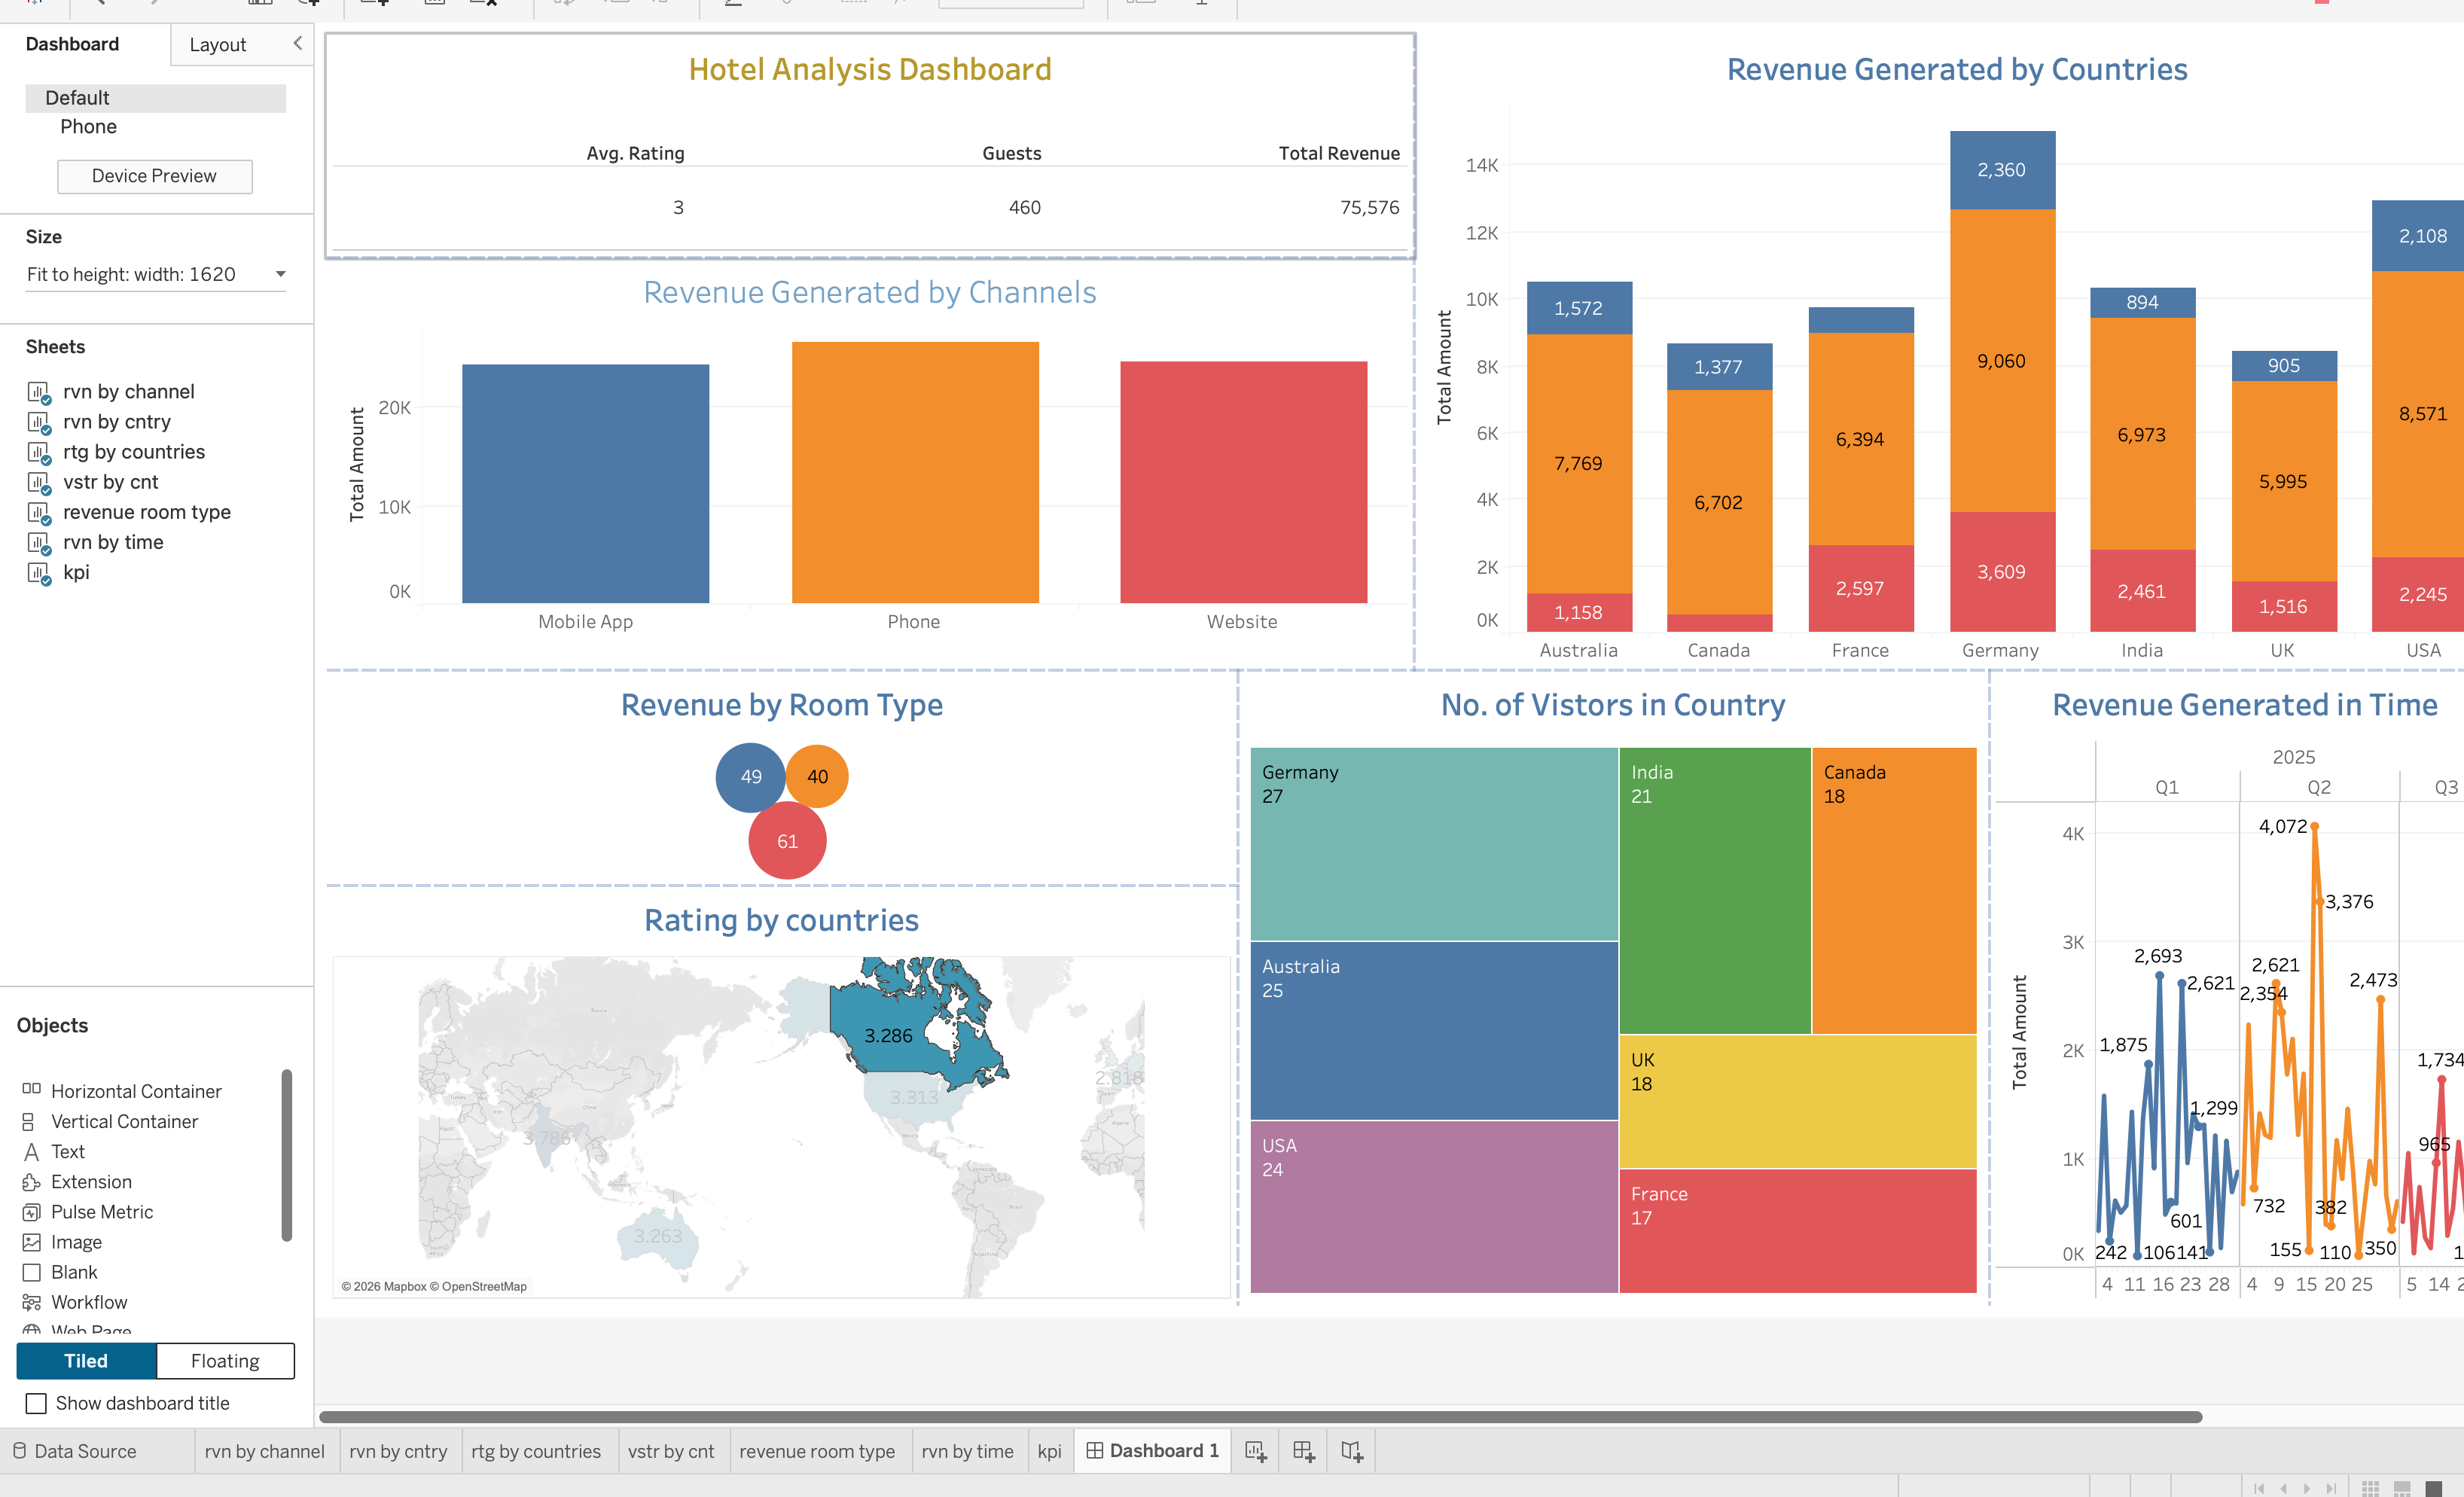

The dashboard page shown, as its layout file describes it:
{"tool":"tableau","page":{"name":"Dashboard 1","canvas":[1000,1000],"units":"permille","ordinal":0},"visuals":[{"type":"worksheet","title":"kpi","mark":"Automatic","box":[4.9,9.3,445.7,172.1]},{"type":"worksheet","title":"rvn by cntry","mark":"Automatic","rows":["TotalAmount"],"cols":["Country"],"box":[450.6,9.3,445.7,490.7]},{"type":"legend","title":"rvn by channel","param":"[federated.10uwmo20w9whh510r90cf0d7i9xo].[none:BookingChannel:nk]","box":[896.3,9.3,98.8,100]},{"type":"legend","title":"rvn by cntry","param":"[federated.10uwmo20w9whh510r90cf0d7i9xo].[none:PaymentStatus:nk]","box":[896.3,109.3,98.8,100]},{"type":"worksheet","title":"rvn by channel","mark":"Automatic","rows":["TotalAmount"],"cols":["BookingChannel"],"box":[4.9,181.4,445.7,318.6]},{"type":"legend","title":"rtg by countries","param":"[federated.10uwmo20w9whh510r90cf0d7i9xo].[avg:Rating:qk]","box":[896.3,209.3,98.8,75.6]},{"type":"legend","title":"rvn by time","param":"[federated.10uwmo20w9whh510r90cf0d7i9xo].[qr:BookingDate:ok]","box":[896.3,284.9,98.8,100]},{"type":"legend","title":"revenue room type","param":"[federated.10uwmo20w9whh510r90cf0d7i9xo].[none:RoomType:nk]","box":[896.3,384.9,98.8,100]},{"type":"legend","title":"vstr by cnt","param":"[federated.10uwmo20w9whh510r90cf0d7i9xo].[none:Country:nk]","box":[896.3,484.9,98.8,193]},{"type":"worksheet","title":"revenue room type","mark":"Circle","box":[4.9,500,373.5,166.3]},{"type":"worksheet","title":"vstr by cnt","mark":"Automatic","box":[378.4,500,308,490.7]},{"type":"worksheet","title":"rvn by time","mark":"Automatic","rows":["TotalAmount"],"cols":["BookingDate","BookingDate","BookingDate"],"box":[686.4,500,209.9,490.7]},{"type":"worksheet","title":"rtg by countries","mark":"Automatic","box":[4.9,666.3,373.5,324.4]}]}

Visuals, with their boxes on the dashboard's canvas, which has no fixed pixel size, in thousandths of its width and height (x1, y1, x2, y2). These are canvas units, not pixel positions in the 2464x1497 screenshot, which may show the page scaled, cropped or inside an application window:
"kpi" worksheet: [x1=5, y1=9, x2=451, y2=181]
"rvn by cntry" worksheet: [x1=451, y1=9, x2=896, y2=500]
"rvn by channel" legend: [x1=896, y1=9, x2=995, y2=109]
"rvn by cntry" legend: [x1=896, y1=109, x2=995, y2=209]
"rvn by channel" worksheet: [x1=5, y1=181, x2=451, y2=500]
"rtg by countries" legend: [x1=896, y1=209, x2=995, y2=285]
"rvn by time" legend: [x1=896, y1=285, x2=995, y2=385]
"revenue room type" legend: [x1=896, y1=385, x2=995, y2=485]
"vstr by cnt" legend: [x1=896, y1=485, x2=995, y2=678]
"revenue room type" worksheet (Circle marks): [x1=5, y1=500, x2=378, y2=666]
"vstr by cnt" worksheet: [x1=378, y1=500, x2=686, y2=991]
"rvn by time" worksheet: [x1=686, y1=500, x2=896, y2=991]
"rtg by countries" worksheet: [x1=5, y1=666, x2=378, y2=991]
